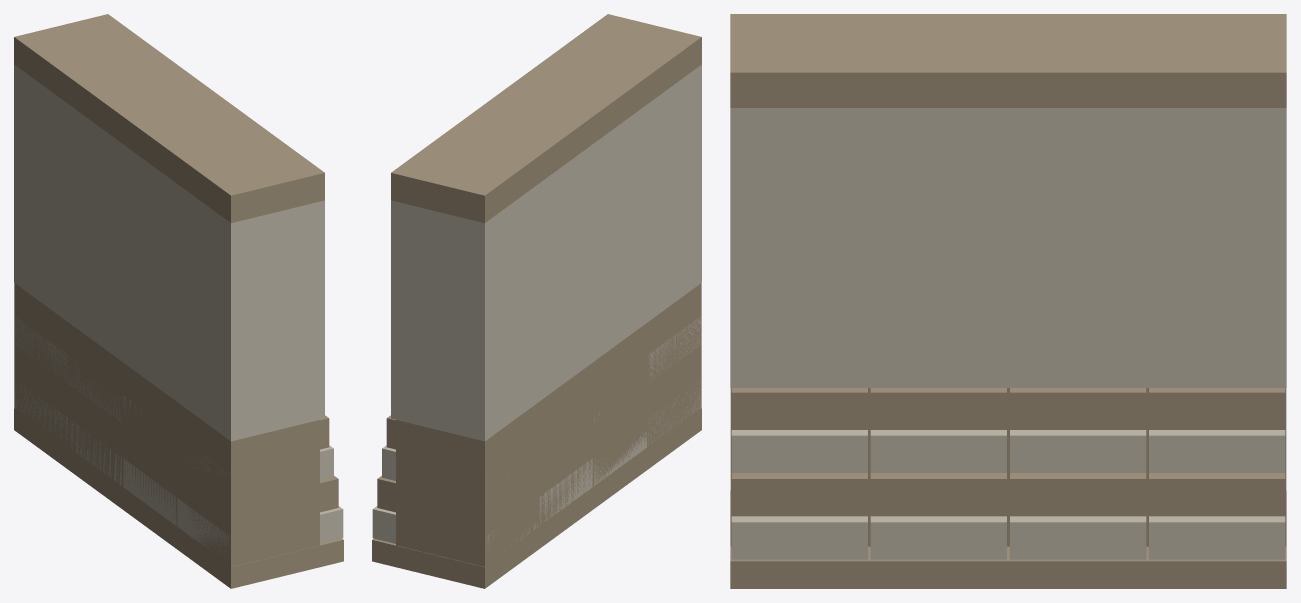
Rendered from CurtainBase__Batter.fbx.
The picture shows the model from 3 angles, left to right: view 1: azimuth 30°, elevation 25°; view 2: azimuth 150°, elevation 25°; view 3: azimuth 270°, elevation 25°; orthographic projection. The views are drawn at different scales.
Parts seen in each view (by area): view 1: CurtainBase__Batter; view 2: CurtainBase__Batter; view 3: CurtainBase__Batter.
Part boxes in pixels (bbox=[...]): CurtainBase__Batter: bbox=[14, 14, 343, 588]; CurtainBase__Batter: bbox=[372, 14, 701, 588]; CurtainBase__Batter: bbox=[730, 14, 1286, 588].
Bounding box in the file's own units: 120 × 400 × 400.
1 material, 1 textured.
